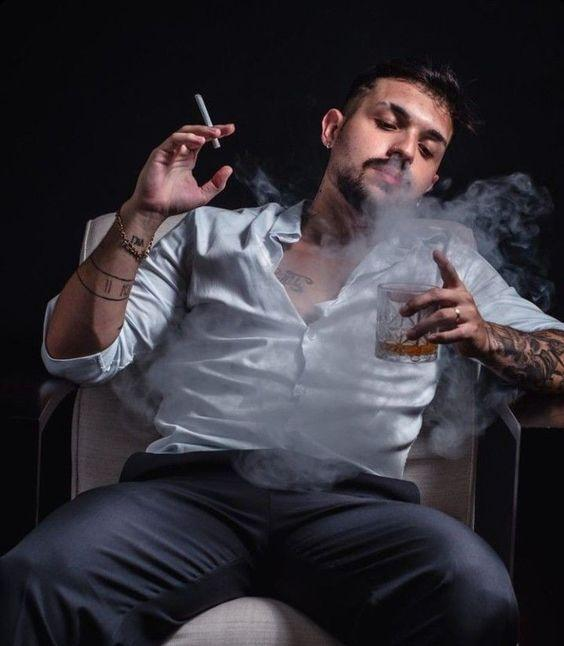cigarette: (194, 93, 221, 149)
